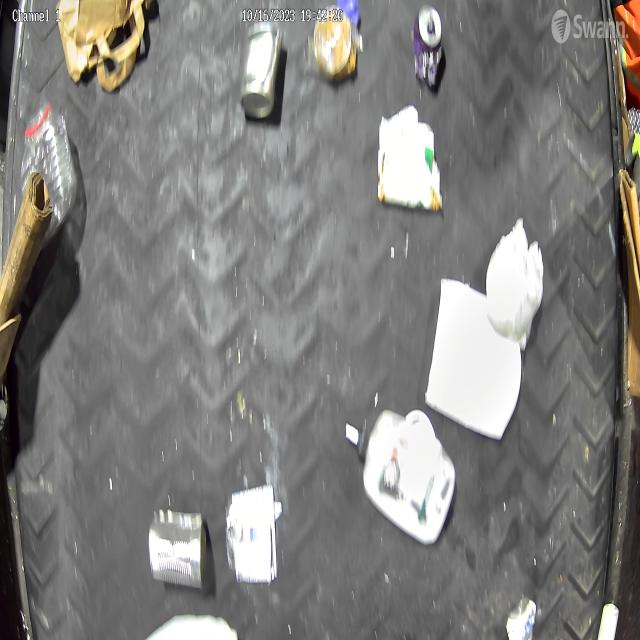can: (226, 483, 278, 586), (148, 508, 209, 592), (240, 17, 284, 122), (413, 3, 444, 89)
